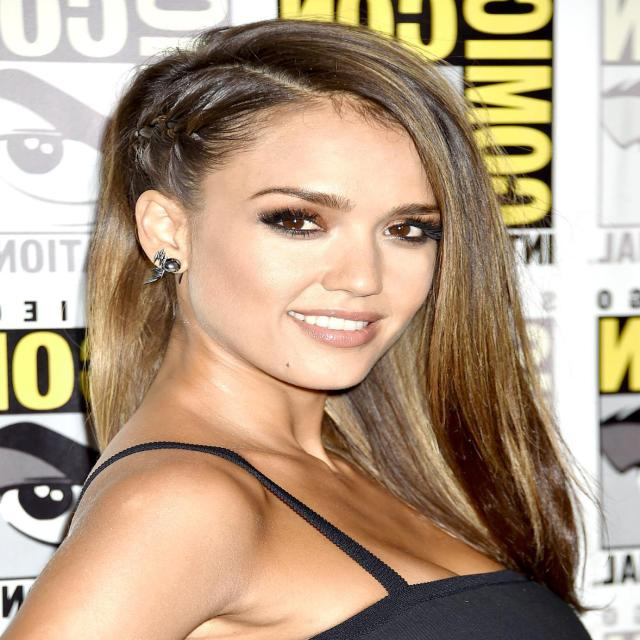no-earmuff: (106, 172, 209, 298)
